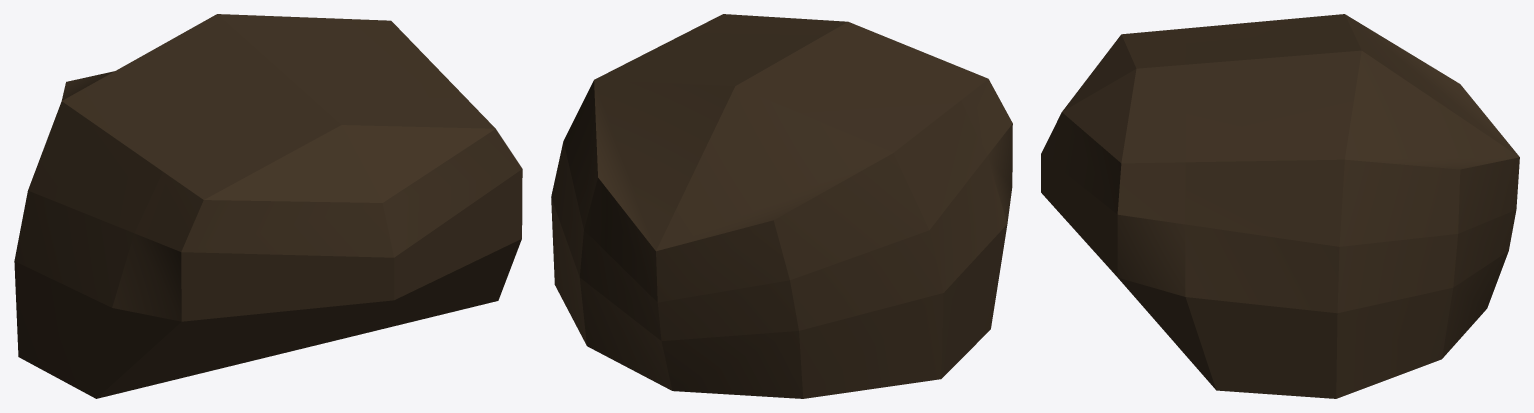
Rendered from universal hair.fbx.
3 renders of one model, left to right at view 1: azimuth 30°, elevation 25°; view 2: azimuth 150°, elevation 25°; view 3: azimuth 270°, elevation 25°, orthographic. The views are drawn at different scales.
Parts seen in each view (by area): view 1: Hair; view 2: Hair; view 3: Hair.
Part boxes in pixels (x1,y1,x2,y2): Hair: (14, 14, 522, 398); Hair: (551, 14, 1012, 398); Hair: (1041, 14, 1519, 398).
Size of the model in its own units: 29.07 by 18.31 by 30.81.
